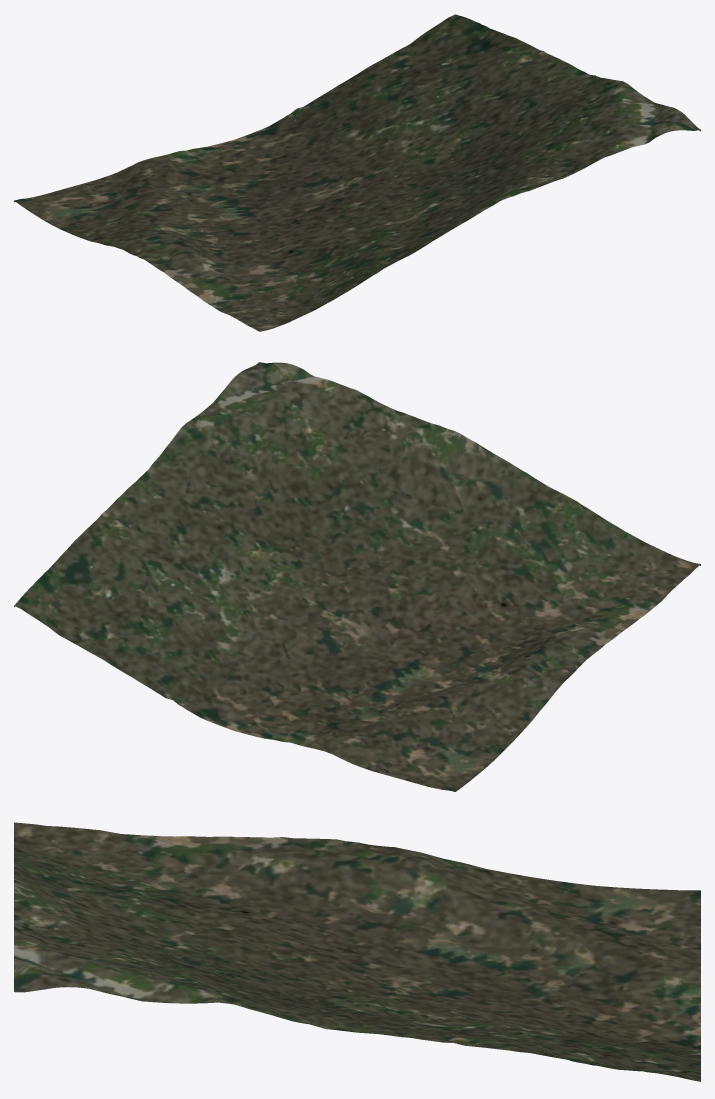
The picture shows the model from 3 angles, top to bottom: view 1: azimuth 30°, elevation 25°; view 2: azimuth 150°, elevation 25°; view 3: azimuth 270°, elevation 25°; orthographic projection. The views are drawn at different scales.
Size of the model in its own units: 250 by 81.97 by 241.
Materials: 1 (1 with a texture image).
